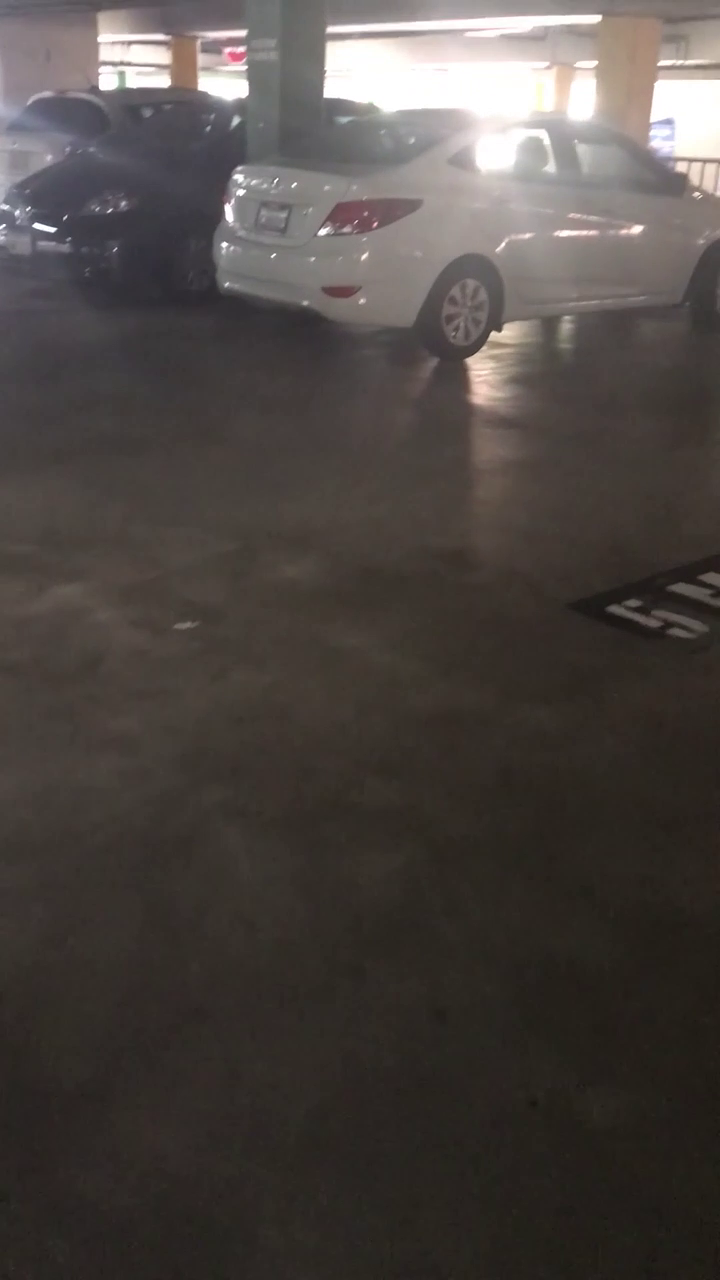car: (226, 104, 703, 351), (6, 96, 241, 299)
